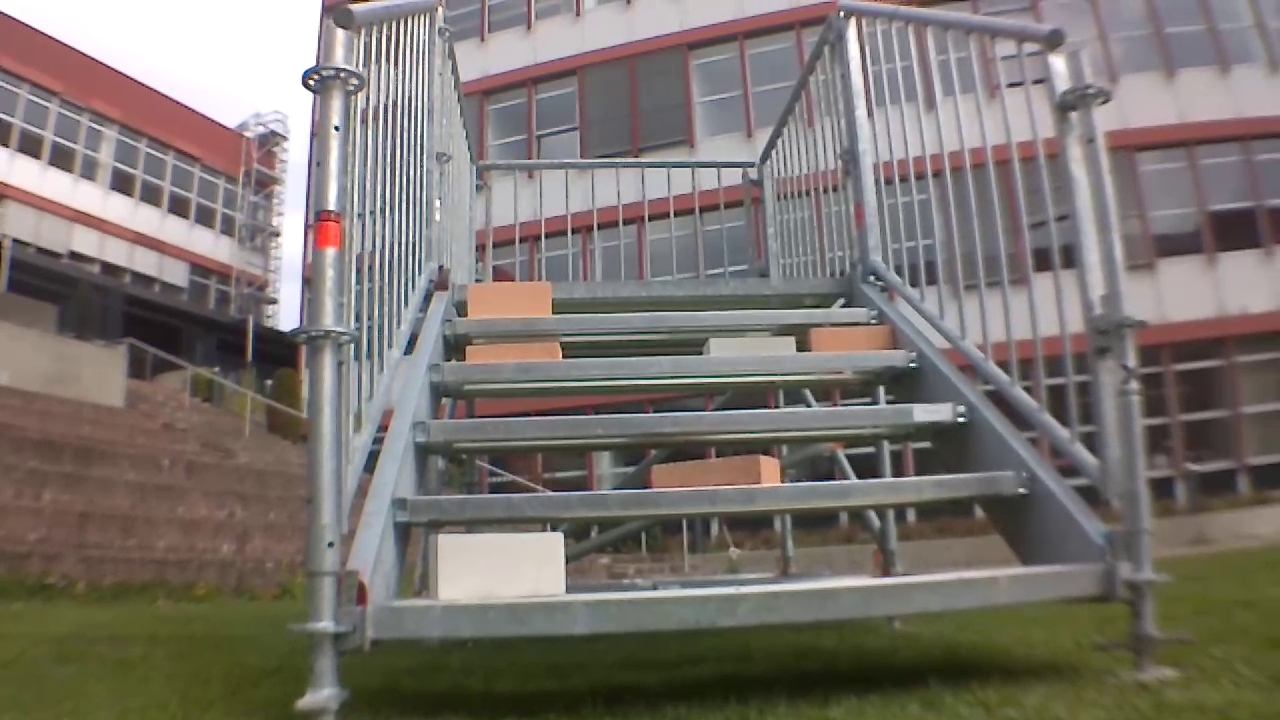brick: (423, 528, 569, 600), (646, 453, 780, 493), (462, 282, 551, 319), (462, 341, 564, 362), (701, 333, 803, 353), (808, 328, 895, 351)
edge: (375, 566, 1111, 636), (395, 467, 1034, 520), (410, 403, 968, 443), (431, 348, 923, 385), (439, 307, 885, 338), (465, 275, 853, 294)
stairs: (306, 0, 1158, 688)
steps: (363, 269, 1125, 643)
